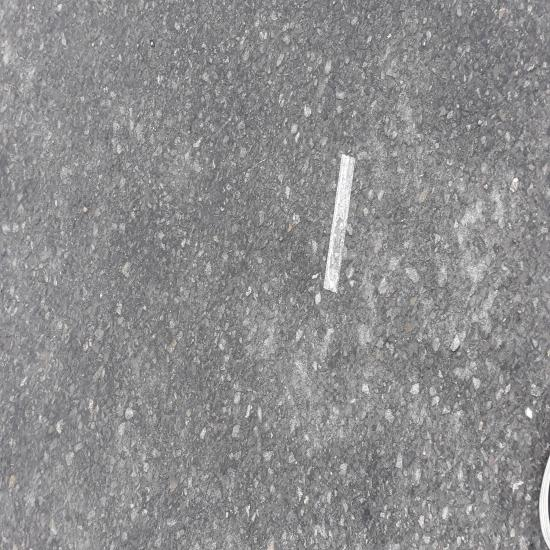Unlabeled litter: (241, 428, 266, 457)
